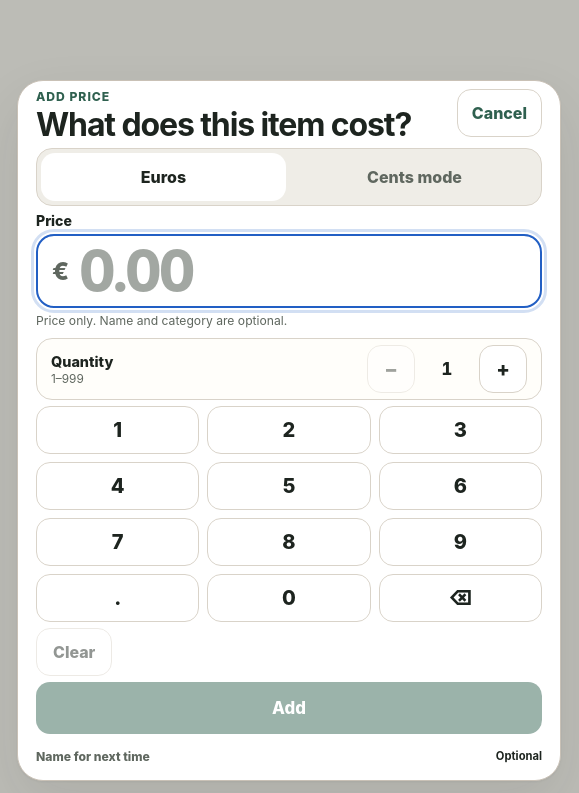
Scenario: PriceEntrySurface › previews safe remaining first when a safety buffer exists
Type "4.79" into the field labelled "Price". click: (302,271)
box: [77, 236, 526, 306]
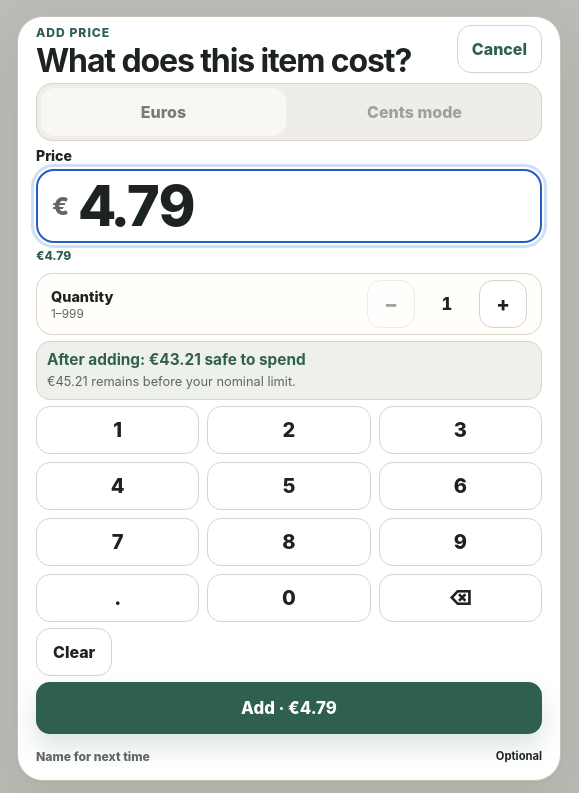
expect the text "After adding: €43.21 safe to spend" is shown: met, box [47, 350, 306, 369]
expect the text "€45.21 remains before your nominal limit." is shown: met, box [47, 374, 296, 389]
